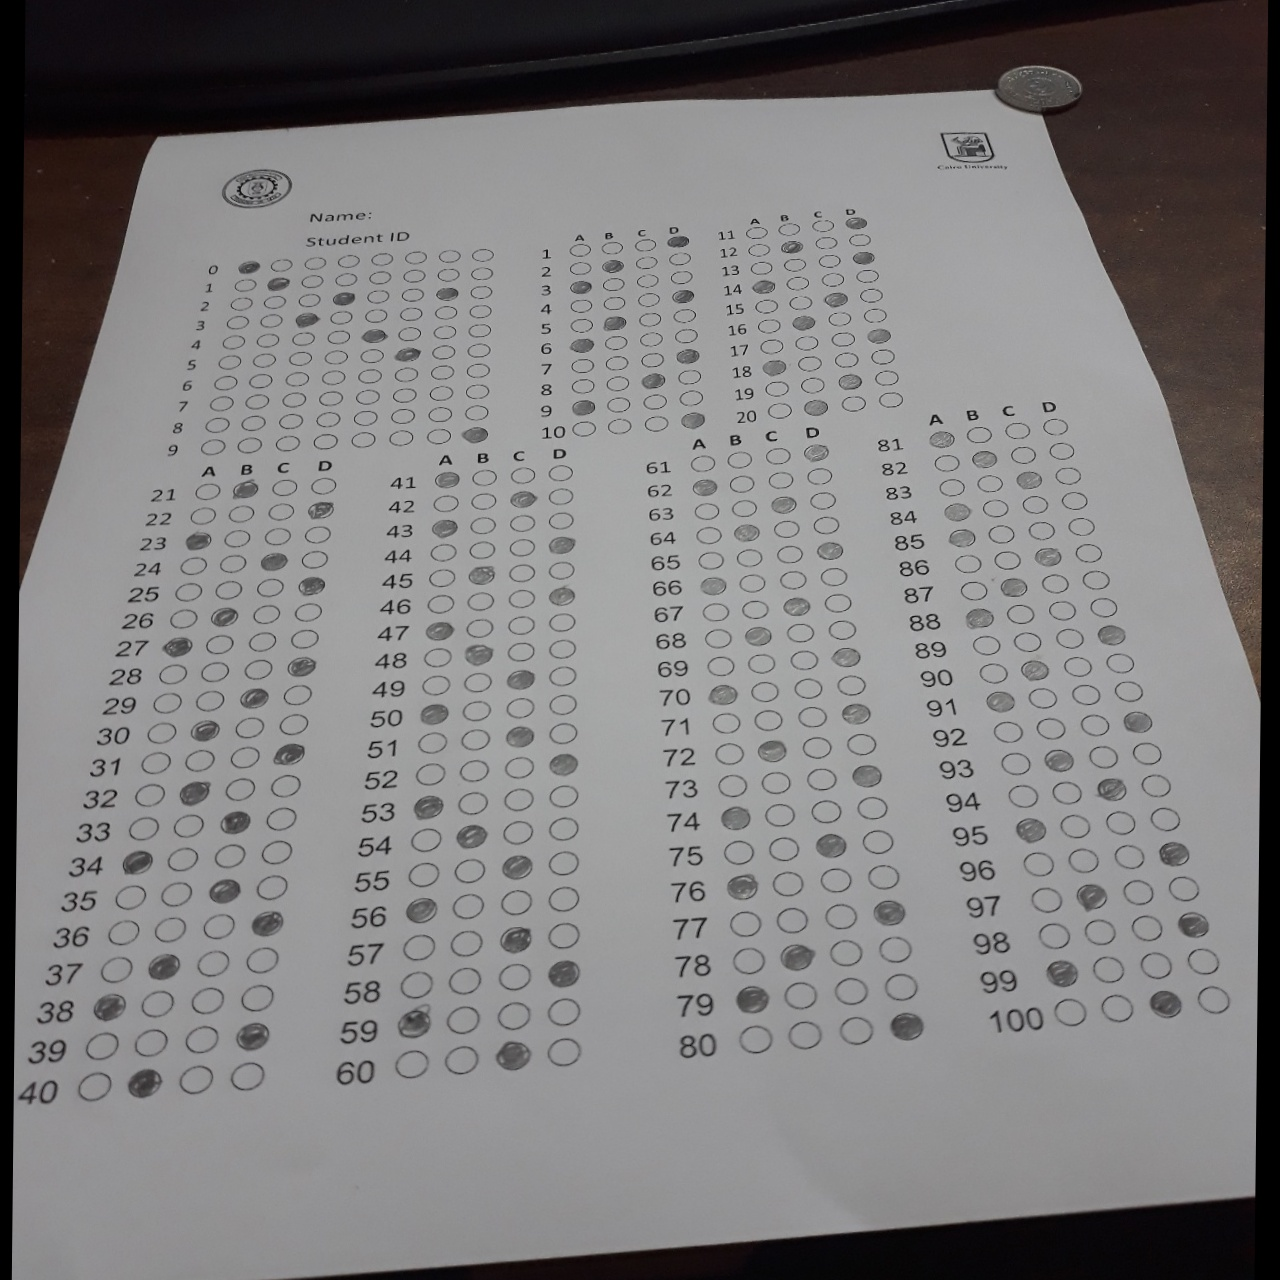not-c: (1121, 876, 1157, 908), (731, 942, 767, 975), (135, 1027, 171, 1058), (394, 1048, 430, 1080), (828, 937, 864, 968), (883, 971, 919, 1002), (1050, 996, 1087, 1028), (1089, 953, 1125, 985), (1185, 946, 1221, 978), (1029, 884, 1065, 915), (1022, 847, 1058, 879), (1104, 806, 1141, 838), (545, 919, 583, 949), (876, 933, 913, 964), (1137, 949, 1175, 980), (1083, 915, 1121, 946), (833, 974, 869, 1006), (839, 1014, 874, 1046), (1064, 843, 1099, 874), (229, 1060, 265, 1090), (444, 1043, 481, 1074), (496, 1000, 532, 1030), (445, 1005, 482, 1035), (445, 966, 482, 996), (402, 932, 438, 962), (546, 884, 583, 914), (406, 859, 442, 890), (546, 847, 583, 878), (1196, 983, 1232, 1014), (1129, 913, 1165, 944), (1166, 872, 1203, 903), (1056, 810, 1092, 840), (497, 961, 535, 990), (1109, 840, 1146, 870), (452, 891, 488, 921), (783, 980, 818, 1010), (737, 1024, 772, 1055), (1098, 992, 1133, 1022), (1039, 920, 1074, 951), (1148, 803, 1183, 833), (183, 1024, 219, 1054), (178, 1063, 215, 1092), (546, 1036, 583, 1065), (448, 927, 484, 956), (546, 813, 583, 843), (545, 998, 583, 1026), (787, 1019, 821, 1049), (86, 1030, 121, 1060), (77, 1071, 113, 1101), (451, 855, 486, 884), (501, 818, 536, 847), (399, 971, 435, 999), (1138, 768, 1172, 797), (191, 986, 226, 1014), (499, 887, 535, 915), (1006, 779, 1039, 809), (1051, 777, 1084, 806), (1080, 709, 1112, 738), (1035, 712, 1068, 741), (241, 983, 275, 1012), (409, 825, 443, 853), (413, 760, 447, 788), (456, 788, 490, 816), (502, 785, 536, 813), (546, 782, 580, 810), (502, 753, 536, 781), (1085, 742, 1119, 770), (992, 717, 1026, 745), (1026, 683, 1060, 712), (100, 955, 135, 982), (202, 912, 234, 940), (728, 908, 761, 937), (1000, 747, 1033, 775), (154, 915, 188, 942), (108, 919, 142, 946), (246, 946, 280, 973), (769, 870, 803, 897), (866, 862, 900, 888), (824, 903, 858, 930), (198, 949, 231, 976), (142, 990, 175, 1017), (862, 828, 894, 855), (721, 838, 754, 865), (1129, 738, 1162, 765), (821, 865, 852, 892), (776, 906, 808, 933), (213, 843, 246, 869), (256, 874, 288, 900), (458, 726, 491, 751), (159, 881, 193, 906), (173, 812, 205, 838), (261, 840, 293, 866), (168, 846, 199, 872), (417, 729, 449, 755), (549, 719, 580, 744), (547, 690, 579, 716), (459, 697, 491, 723), (422, 645, 454, 670), (856, 794, 887, 819), (763, 801, 795, 826), (768, 835, 799, 860), (712, 740, 744, 764), (129, 815, 159, 840), (265, 805, 297, 830), (115, 884, 147, 908), (504, 694, 536, 719), (421, 673, 452, 697), (461, 669, 492, 694), (805, 765, 837, 790), (1053, 627, 1085, 651), (1040, 571, 1073, 594), (990, 549, 1023, 572), (1065, 515, 1098, 538), (1026, 518, 1058, 542), (1039, 415, 1071, 438), (147, 721, 177, 745), (547, 636, 578, 661), (508, 639, 538, 663), (760, 769, 790, 794), (802, 735, 832, 760), (844, 731, 874, 756), (135, 783, 166, 806), (546, 663, 578, 687), (1114, 679, 1145, 702), (1061, 654, 1092, 678), (971, 632, 1002, 655), (1046, 598, 1077, 621), (958, 579, 989, 602), (979, 495, 1010, 518), (1081, 567, 1114, 590), (716, 772, 745, 797), (185, 748, 216, 771), (1105, 652, 1136, 675), (987, 522, 1017, 545), (1009, 443, 1040, 467), (270, 775, 301, 797), (796, 704, 828, 727), (1088, 595, 1119, 618), (1005, 602, 1036, 625), (952, 553, 983, 576), (1074, 540, 1105, 563), (1060, 489, 1091, 511), (1046, 440, 1077, 462), (1002, 417, 1034, 440), (937, 476, 968, 498), (932, 451, 964, 474), (964, 423, 995, 445), (978, 662, 1010, 683), (1051, 465, 1084, 486), (282, 683, 312, 707), (234, 715, 264, 738), (226, 777, 256, 801), (811, 799, 840, 823), (754, 708, 784, 730), (1012, 629, 1042, 652), (974, 471, 1005, 493), (1070, 683, 1102, 704), (1019, 493, 1050, 515), (459, 758, 488, 782), (428, 565, 456, 588), (547, 459, 576, 483), (244, 658, 273, 680), (279, 713, 308, 735), (231, 745, 260, 768), (508, 511, 537, 533), (546, 509, 576, 531), (740, 598, 769, 620), (701, 600, 730, 622), (745, 652, 775, 674), (712, 712, 741, 734), (141, 751, 171, 772), (545, 559, 576, 580), (205, 633, 233, 655), (159, 662, 188, 685), (152, 692, 181, 714), (465, 617, 493, 639), (547, 611, 576, 633), (508, 587, 536, 610), (467, 588, 495, 611), (508, 536, 536, 558), (169, 607, 198, 628), (468, 515, 497, 536), (546, 485, 576, 506), (787, 621, 813, 644), (828, 619, 855, 641), (706, 654, 733, 676), (751, 680, 778, 702), (224, 527, 252, 549), (291, 627, 319, 648), (200, 660, 229, 681), (196, 690, 224, 712), (425, 593, 454, 614), (508, 561, 536, 583), (467, 539, 495, 560), (642, 411, 670, 433), (703, 627, 731, 648), (824, 591, 852, 612), (836, 674, 864, 695), (263, 526, 292, 546), (428, 542, 457, 561), (181, 554, 207, 576), (253, 602, 280, 624), (508, 614, 535, 635), (794, 678, 821, 699), (309, 476, 338, 496), (304, 524, 332, 544), (300, 549, 328, 568), (248, 631, 277, 651), (568, 418, 597, 438), (789, 649, 817, 669), (219, 553, 248, 572), (173, 583, 203, 601), (731, 497, 757, 518), (694, 499, 720, 520), (776, 543, 802, 564), (271, 477, 298, 497), (257, 577, 284, 597), (509, 464, 536, 484), (470, 467, 497, 486), (470, 490, 497, 510), (433, 492, 459, 512), (812, 515, 839, 535), (772, 518, 799, 538), (778, 568, 805, 588), (738, 572, 765, 592), (267, 502, 295, 520), (215, 580, 243, 599), (604, 415, 632, 434), (640, 392, 668, 410), (604, 394, 632, 413), (675, 367, 703, 386), (195, 481, 220, 501), (736, 547, 762, 567), (229, 504, 256, 523), (297, 602, 324, 621), (694, 525, 721, 544), (821, 567, 847, 586), (678, 388, 706, 406), (638, 309, 663, 328), (568, 297, 594, 315), (599, 237, 625, 256), (632, 234, 658, 253), (689, 454, 715, 472), (765, 447, 791, 465), (697, 550, 723, 568), (199, 437, 226, 455), (568, 316, 595, 334), (726, 450, 753, 468), (213, 373, 238, 392), (636, 271, 661, 290), (729, 474, 754, 492), (359, 347, 384, 365), (205, 415, 231, 433), (217, 353, 243, 370), (604, 374, 629, 392), (570, 356, 595, 374), (604, 354, 629, 372), (638, 329, 663, 347), (672, 306, 697, 324), (797, 354, 823, 372), (799, 375, 825, 393), (877, 390, 903, 408), (767, 401, 792, 418), (767, 470, 792, 488), (809, 491, 835, 509), (207, 395, 234, 411), (392, 406, 415, 424), (428, 406, 452, 423), (394, 365, 418, 382), (358, 367, 382, 384), (355, 387, 380, 404), (353, 408, 377, 425), (297, 291, 321, 308), (263, 292, 287, 309), (256, 331, 280, 348), (248, 372, 273, 389), (245, 392, 270, 409), (222, 333, 246, 350), (232, 275, 257, 293), (191, 506, 216, 524), (639, 350, 663, 368), (602, 294, 627, 312), (636, 291, 661, 308), (601, 275, 626, 293), (840, 394, 865, 411), (873, 368, 898, 386), (806, 467, 831, 484), (318, 389, 343, 406), (570, 377, 595, 394), (602, 334, 628, 350), (673, 327, 699, 343), (567, 239, 593, 256), (754, 297, 779, 313), (788, 293, 813, 309), (859, 286, 885, 302), (863, 306, 888, 322), (760, 338, 785, 354), (794, 334, 819, 350), (835, 350, 860, 367), (870, 348, 896, 365), (325, 347, 348, 365), (275, 434, 299, 451), (260, 311, 284, 328), (226, 313, 250, 331), (268, 257, 293, 273), (469, 266, 493, 282), (464, 403, 489, 420), (430, 343, 455, 360), (427, 427, 451, 443), (393, 386, 417, 402), (313, 433, 338, 449), (316, 410, 341, 427), (278, 411, 302, 428), (281, 390, 306, 407), (285, 370, 309, 387), (291, 329, 315, 346), (241, 414, 266, 430), (238, 436, 263, 452), (670, 268, 695, 285), (568, 259, 593, 275), (757, 316, 782, 333), (765, 380, 790, 396), (370, 250, 394, 266), (436, 246, 459, 263), (436, 266, 459, 282), (471, 245, 495, 261), (368, 268, 392, 285), (400, 286, 423, 302), (365, 306, 388, 322), (399, 305, 422, 321), (469, 282, 492, 299), (468, 321, 491, 338), (467, 341, 490, 358), (431, 363, 455, 380), (429, 384, 452, 401), (389, 429, 413, 445), (321, 368, 345, 384), (288, 348, 312, 365), (253, 350, 277, 367), (350, 431, 375, 447), (229, 295, 253, 311), (828, 309, 852, 325), (831, 331, 856, 346), (335, 272, 358, 288), (435, 304, 457, 320), (465, 382, 488, 399), (302, 254, 326, 270), (338, 253, 361, 268), (403, 248, 427, 264), (402, 267, 425, 282), (365, 288, 388, 304), (468, 302, 491, 318), (467, 362, 490, 377), (327, 328, 350, 343), (668, 251, 692, 266), (744, 225, 768, 240), (847, 232, 871, 247), (821, 271, 844, 286), (855, 267, 878, 282), (813, 234, 838, 248), (331, 309, 353, 325), (399, 326, 421, 341), (433, 324, 455, 339), (811, 218, 835, 232), (747, 241, 770, 256), (635, 256, 658, 270), (777, 222, 799, 236), (750, 260, 772, 274), (783, 257, 805, 271), (818, 252, 840, 266), (787, 275, 809, 290)
taken-c: (91, 992, 127, 1024), (888, 1009, 925, 1041), (498, 924, 532, 956), (125, 1068, 161, 1099), (496, 1039, 531, 1070), (544, 958, 579, 989), (409, 792, 444, 824), (543, 748, 578, 779), (1047, 955, 1080, 988), (147, 951, 181, 982), (403, 892, 437, 924), (1096, 619, 1130, 651), (397, 1008, 433, 1039), (452, 821, 488, 851), (1148, 988, 1183, 1019), (1074, 881, 1107, 913), (1041, 744, 1074, 776), (498, 851, 532, 881), (504, 722, 538, 753), (1175, 910, 1208, 940), (1155, 838, 1189, 869), (1121, 708, 1156, 737), (872, 896, 905, 926), (719, 803, 753, 832), (704, 678, 738, 707), (418, 700, 454, 728), (815, 830, 850, 857), (778, 941, 811, 969), (754, 736, 787, 764), (735, 983, 768, 1012), (724, 872, 757, 900), (544, 583, 577, 610), (463, 641, 497, 667), (692, 572, 727, 597), (220, 806, 251, 835), (120, 849, 151, 876), (251, 910, 282, 937), (504, 666, 537, 692), (728, 519, 763, 543), (179, 779, 210, 806), (207, 878, 239, 904), (1015, 815, 1047, 840), (964, 605, 996, 629), (779, 592, 812, 617), (1033, 542, 1062, 568), (237, 1022, 267, 1048), (1014, 467, 1044, 492), (1096, 776, 1126, 802), (945, 524, 976, 549), (769, 491, 802, 515), (742, 621, 775, 645), (998, 573, 1027, 599), (983, 690, 1015, 714), (850, 763, 881, 787), (1022, 655, 1050, 681), (828, 646, 862, 667), (835, 703, 869, 724), (467, 563, 498, 585), (423, 620, 455, 642), (967, 445, 995, 470), (811, 540, 844, 561), (287, 654, 316, 678), (429, 516, 459, 538), (185, 530, 213, 553), (240, 686, 268, 709), (433, 467, 462, 489), (690, 475, 720, 497), (506, 488, 537, 509), (565, 396, 595, 417), (927, 427, 958, 448), (210, 604, 237, 627), (165, 635, 193, 658), (190, 720, 218, 742), (275, 742, 304, 764), (547, 533, 577, 554), (942, 503, 973, 523), (568, 335, 594, 355), (599, 256, 624, 275), (433, 282, 457, 302), (299, 576, 324, 595), (679, 410, 704, 429), (392, 346, 417, 365), (234, 256, 260, 274), (361, 325, 384, 345), (233, 479, 257, 499), (803, 442, 828, 461), (665, 230, 689, 248), (462, 424, 486, 443), (265, 272, 290, 291), (307, 501, 332, 519), (263, 552, 287, 571), (675, 346, 699, 365), (670, 286, 694, 305), (640, 370, 663, 389), (602, 314, 626, 333), (568, 277, 592, 295), (331, 287, 354, 306), (297, 309, 321, 327), (760, 359, 787, 374), (778, 239, 803, 256), (750, 278, 775, 294), (823, 291, 847, 306), (791, 315, 816, 331), (837, 373, 862, 388), (842, 215, 867, 229), (866, 327, 890, 342), (804, 399, 828, 414), (853, 248, 878, 263)
